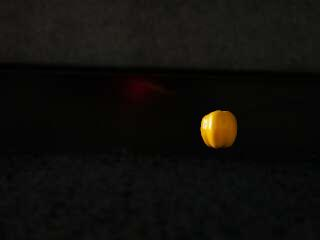Capsicum: (200, 110, 238, 148)
